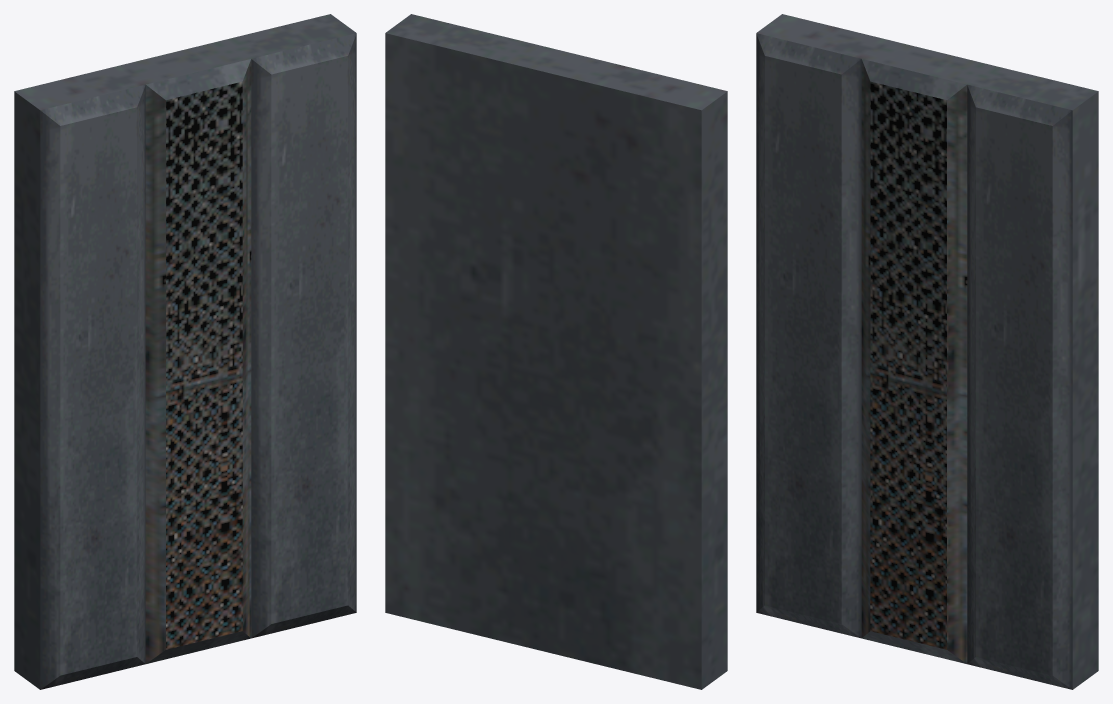
The model's file is SM_BLD_METALWALL_01.fbx.
3 views of the same model, side by side, from view 1: azimuth 30°, elevation 25°; view 2: azimuth 150°, elevation 25°; view 3: azimuth 330°, elevation 25° (orthographic).
Parts seen in each view (by area): view 1: SM_BLD_METALWALL_01; view 2: SM_BLD_METALWALL_01; view 3: SM_BLD_METALWALL_01.
Part boxes in pixels (x1,y1,x2,y2): SM_BLD_METALWALL_01: (14, 14, 356, 689); SM_BLD_METALWALL_01: (385, 14, 727, 689); SM_BLD_METALWALL_01: (756, 14, 1098, 689).
Bounding box in the file's own units: 2 × 3.5 × 0.3481.
